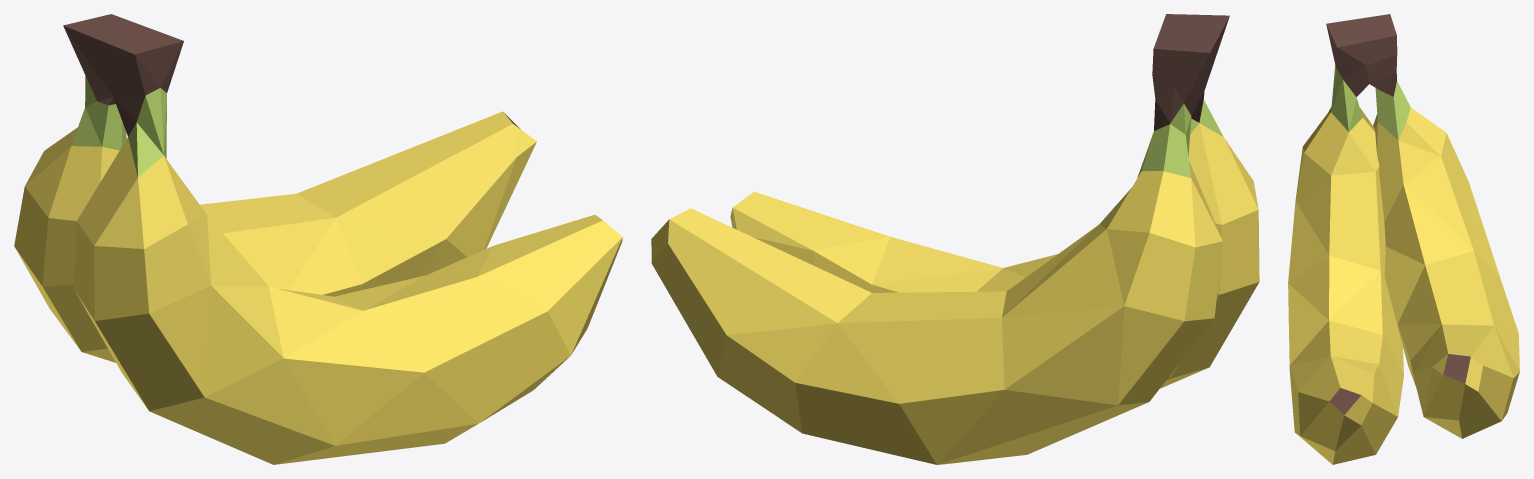
Rendered from Banana.fbx.
The picture shows the model from 3 angles, left to right: view 1: azimuth 30°, elevation 25°; view 2: azimuth 150°, elevation 25°; view 3: azimuth 270°, elevation 25°; orthographic projection. The views are drawn at different scales.
Visible parts, largest first — view 1: Cylinder.001; view 2: Cylinder.001; view 3: Cylinder.001.
Boxes of the visible parts, box(x1,y1,x2,y2) form: Cylinder.001: box(14, 14, 622, 464); Cylinder.001: box(651, 14, 1259, 464); Cylinder.001: box(1288, 14, 1519, 464).
Bounding box in the file's own units: 324 × 270 × 173.
